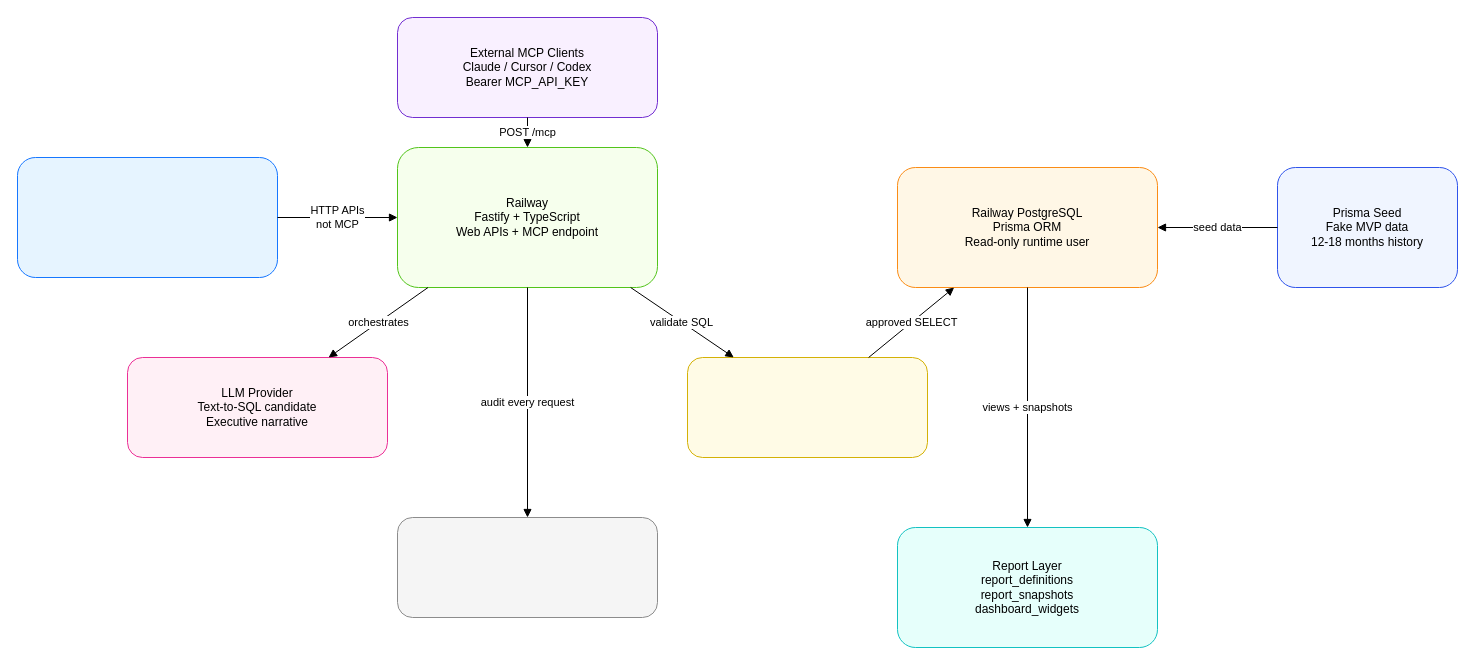
Image size: 1475x665. Some labels were removed from this diagram. Here are the shapes that lost their labels. From the top down, the box of each, then its label:
(16, 156, 278, 278): Cloudflare Workers Next.js SSR + shadcn/ui Dashboard report-first
(686, 356, 928, 458): SQL Safety Layer AST parser SELECT only + allowlists
(396, 516, 658, 618): Audit Log query_audit_log trace_id + SQL + client
